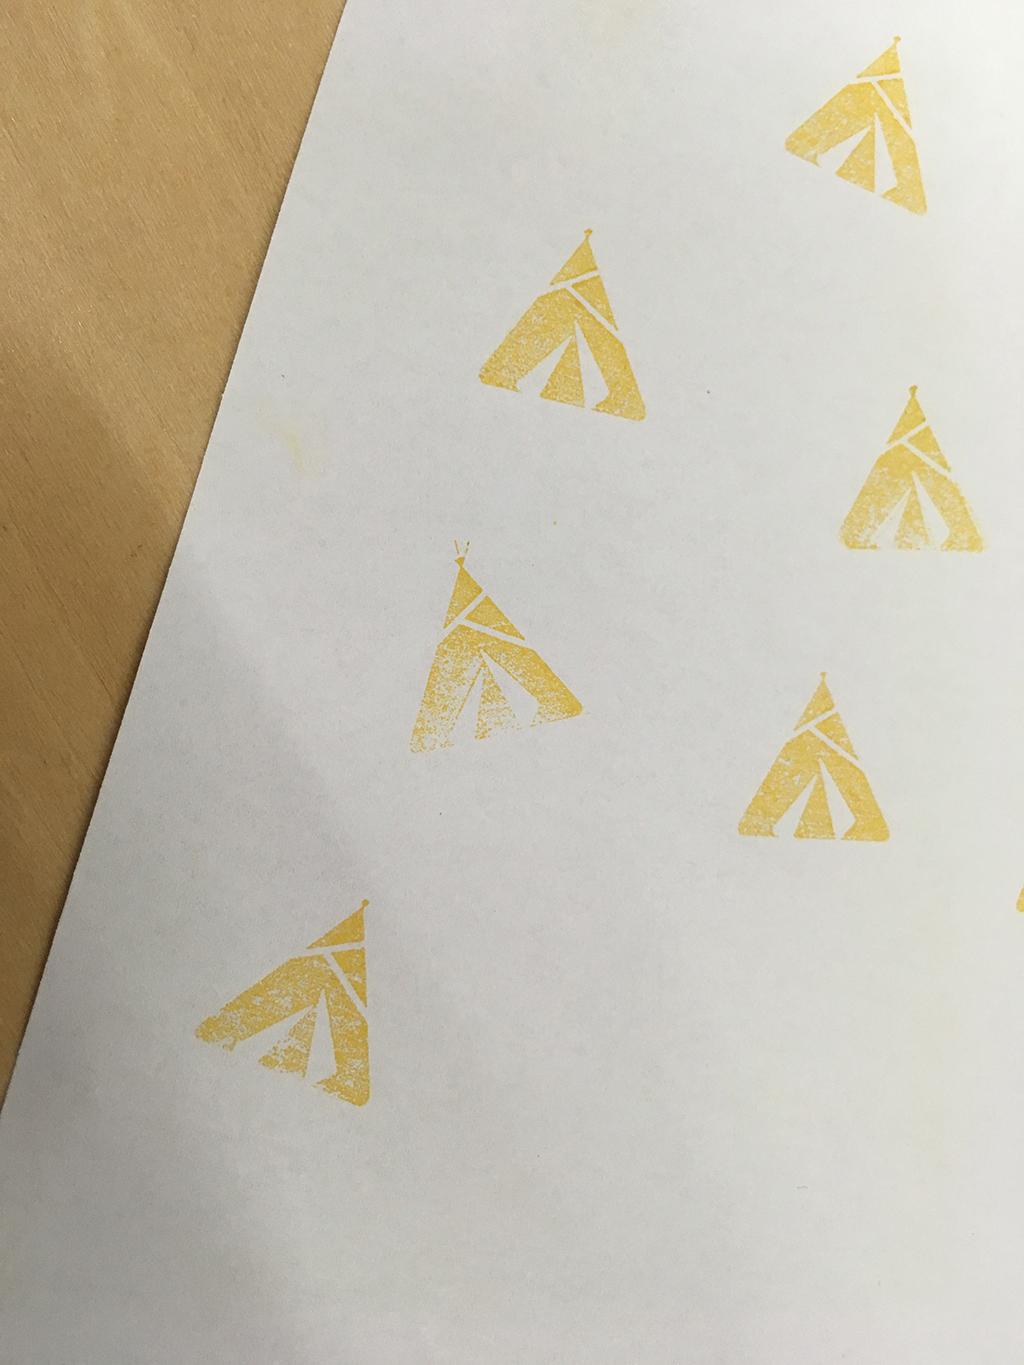tent: (182, 890, 385, 1115), (393, 535, 593, 754), (466, 221, 666, 427), (737, 662, 901, 856), (839, 375, 995, 569), (781, 31, 933, 224)
